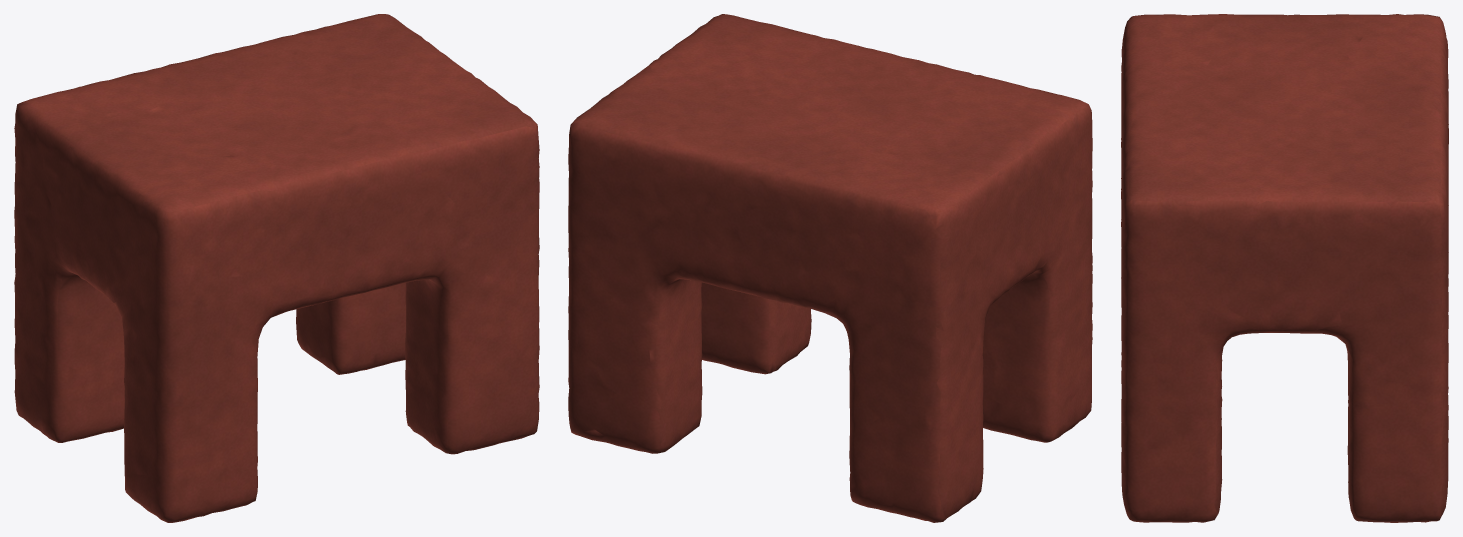
The model's file is fermliving-podo.glb.
3 views of the same model, side by side, from view 1: azimuth 30°, elevation 25°; view 2: azimuth 150°, elevation 25°; view 3: azimuth 270°, elevation 25° (orthographic). The views are drawn at different scales.
Parts seen in each view (by area): view 1: fermliving-podo; view 2: fermliving-podo; view 3: fermliving-podo.
Boxes of the visible parts, x1,y1,x2,y2 form: fermliving-podo: (14, 14, 539, 522); fermliving-podo: (568, 14, 1092, 522); fermliving-podo: (1121, 14, 1448, 522).
Bounding box in the file's own units: 0.5017 × 0.4016 × 0.3617.
1 material, 1 textured.
